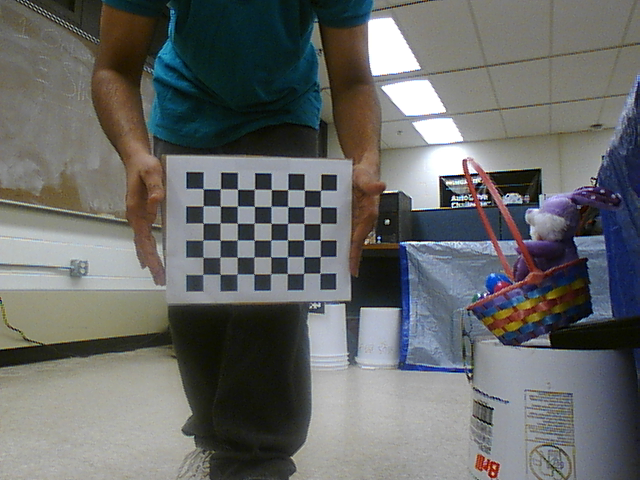bunny: (453, 148, 606, 353)
